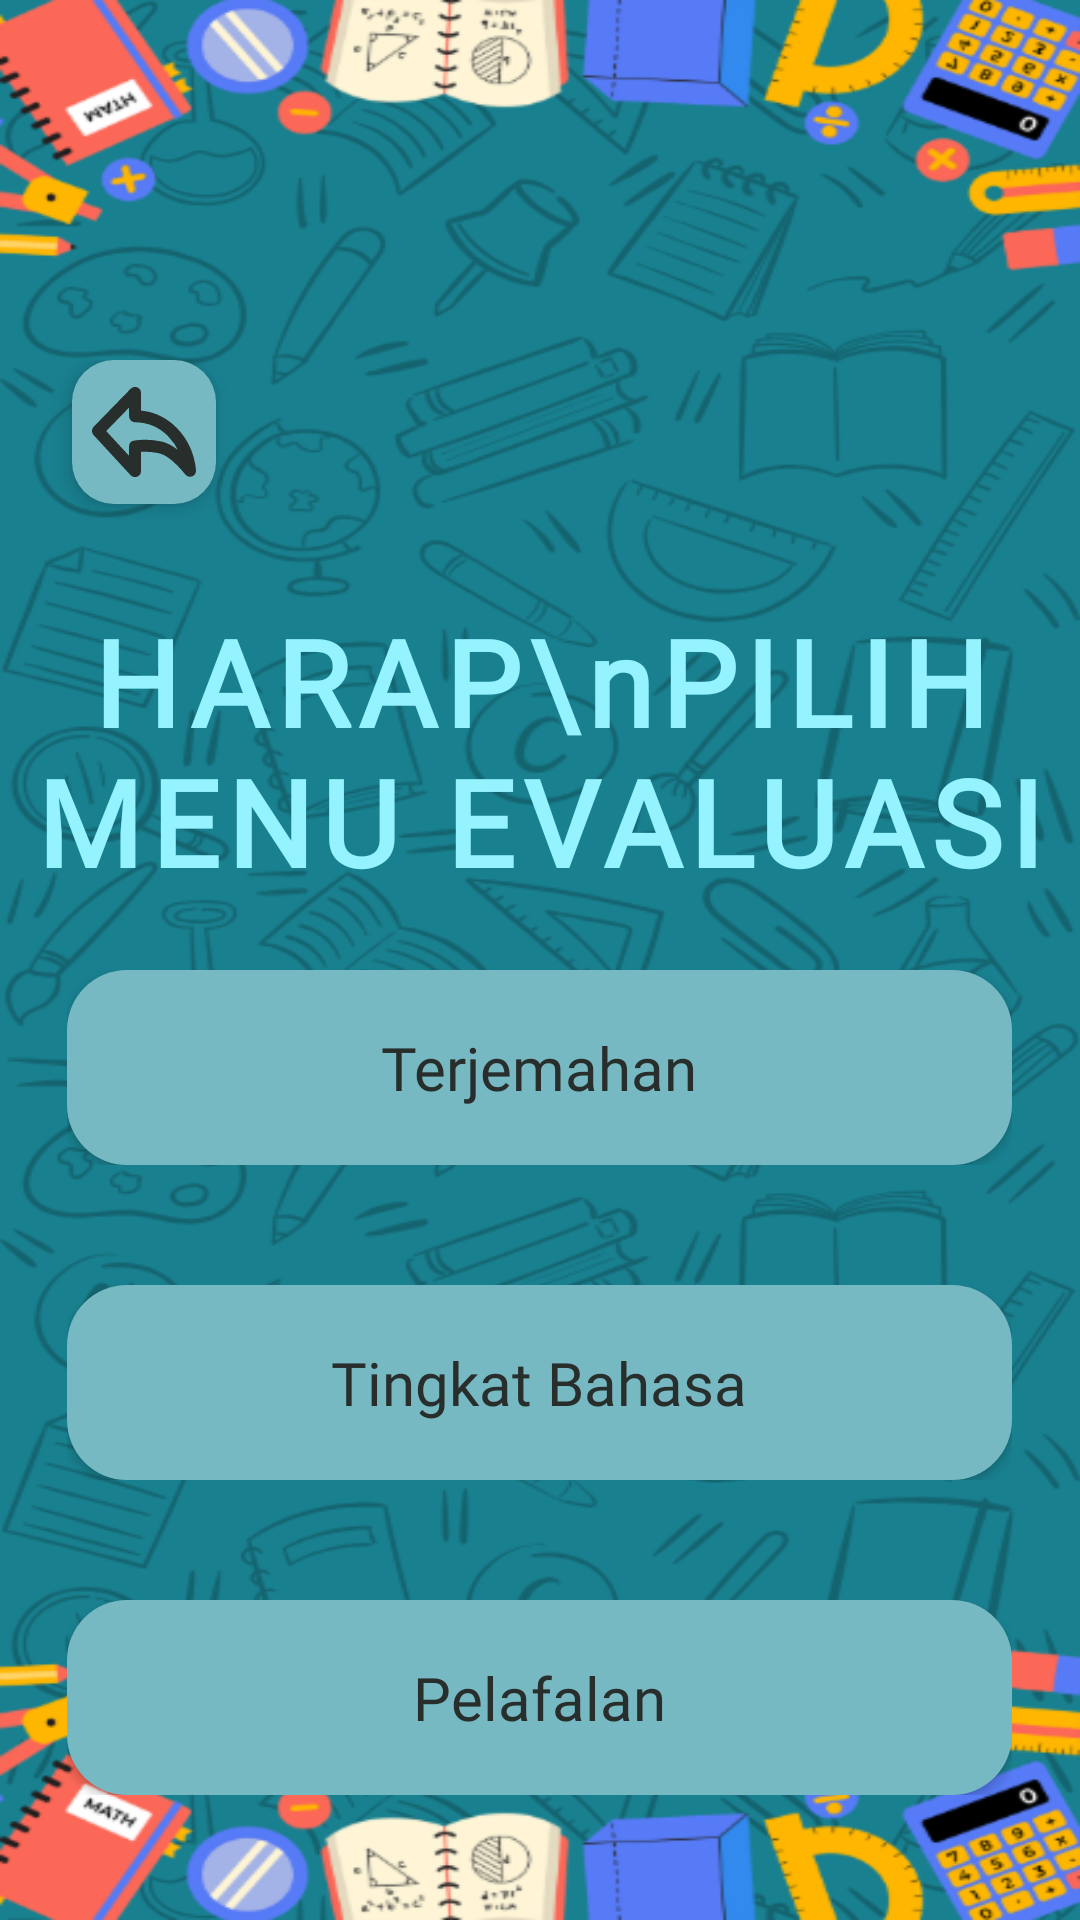

Locate icon controls on the screen. Image size 1080x1920, boxes as [left=x1, top=y1, right=x2, bottom=y2].
Back: [left=72, top=360, right=216, bottom=504]
